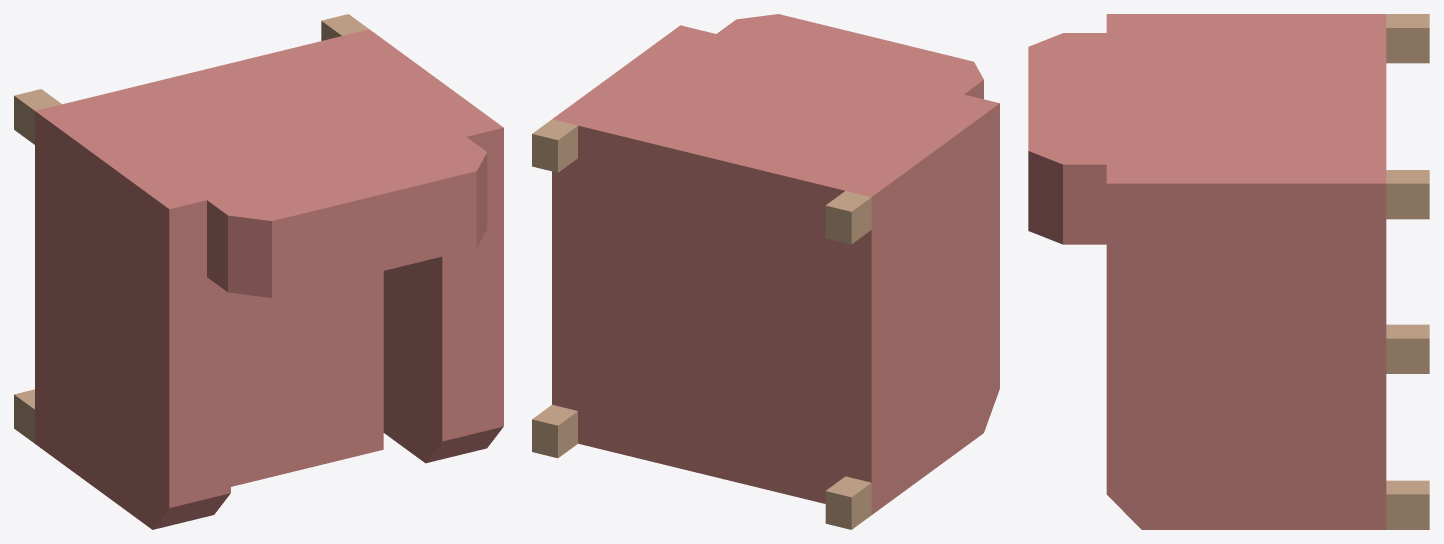
File: armchair.glb
3 views of the same model, side by side, from view 1: azimuth 30°, elevation 25°; view 2: azimuth 150°, elevation 25°; view 3: azimuth 270°, elevation 25° (orthographic). The views are drawn at different scales.
Visible parts, largest first — view 1: furniture/armchair; view 2: furniture/armchair; view 3: furniture/armchair.
Part boxes in pixels (bbox=[...]): furniture/armchair: bbox=[14, 14, 503, 529]; furniture/armchair: bbox=[532, 14, 999, 529]; furniture/armchair: bbox=[1028, 14, 1429, 529].
Bounding box in the file's own units: 1 × 1 × 1.
